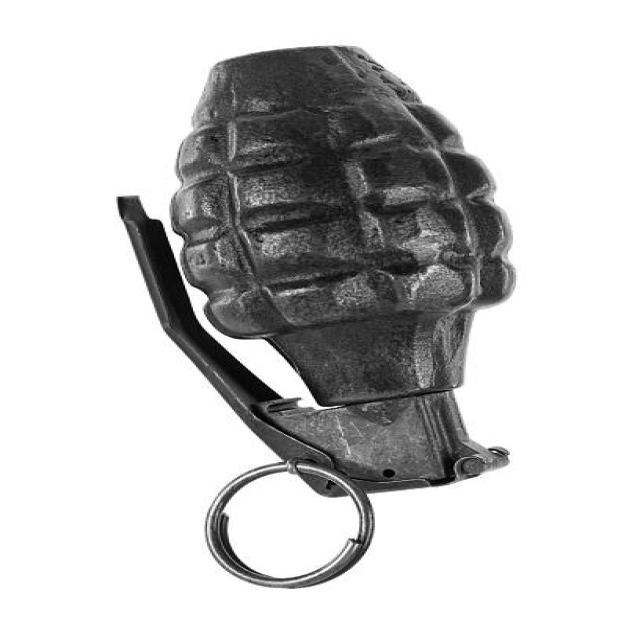grenade: (105, 35, 532, 599)
